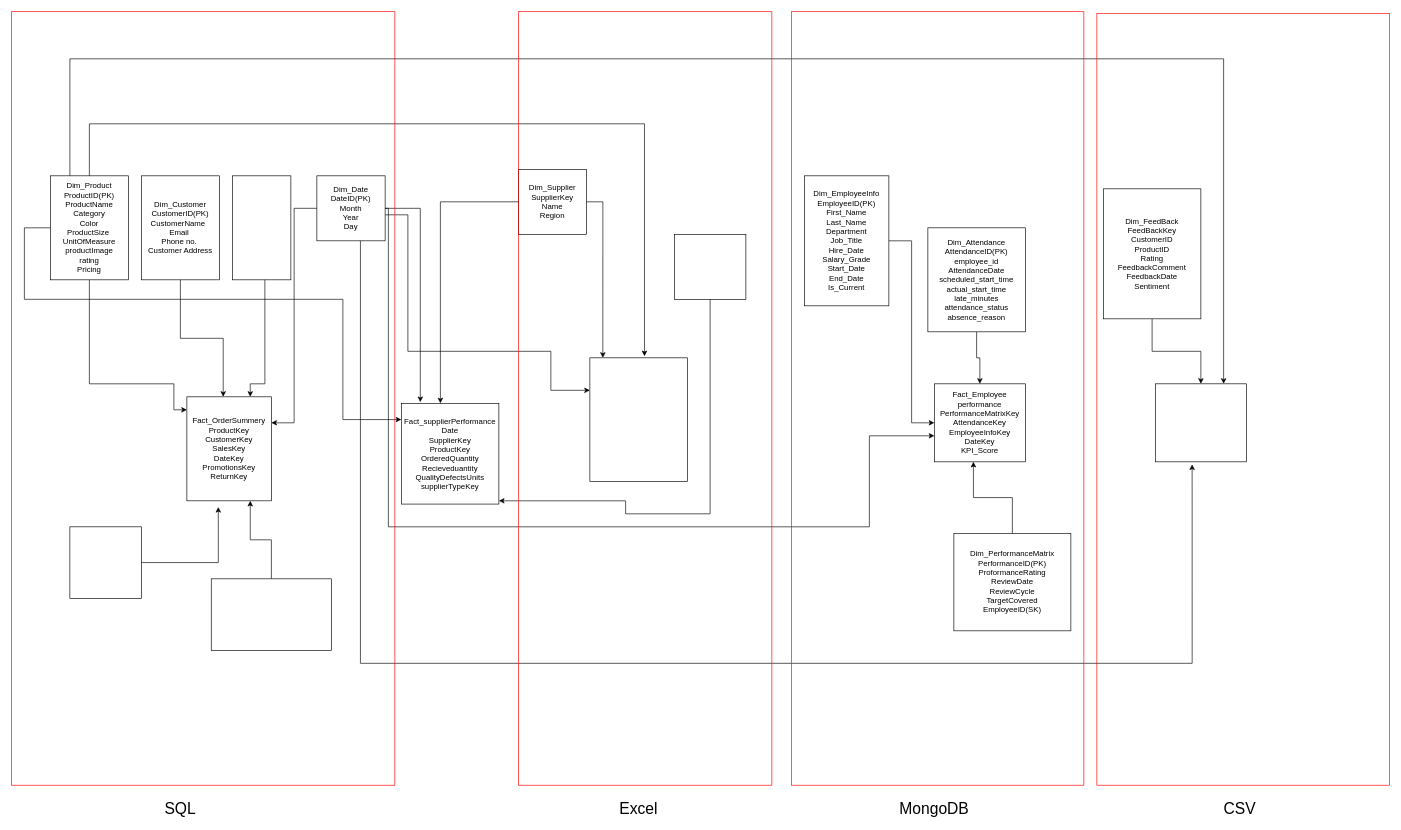
The diagram is 1401 pixels wide and 830 high, and some of its shapes have lost their labels. Each missing label, with the centre of its shape:
Dim_Promotions PromoID(PK) PromoName DiscountRate StartDate EndDate: the point at 105,562
Dim_Return ReturnID (PK) ReturnDateKey CustomerID: the point at 271,614
Dim_Sales SalesID(PK) units_sold title tags price balance sales index: the point at 261,227
Dim_SupplierType SupplierTypeID(PK) Name: the point at 710,266
Fact_CusFeedBack FeedBackKey PriductKey Date AverageRate: the point at 1200,422
Fact_InventorySummery SupplierKey ProductKey DateKey StockLevel RestockAmount: the point at 638,419
